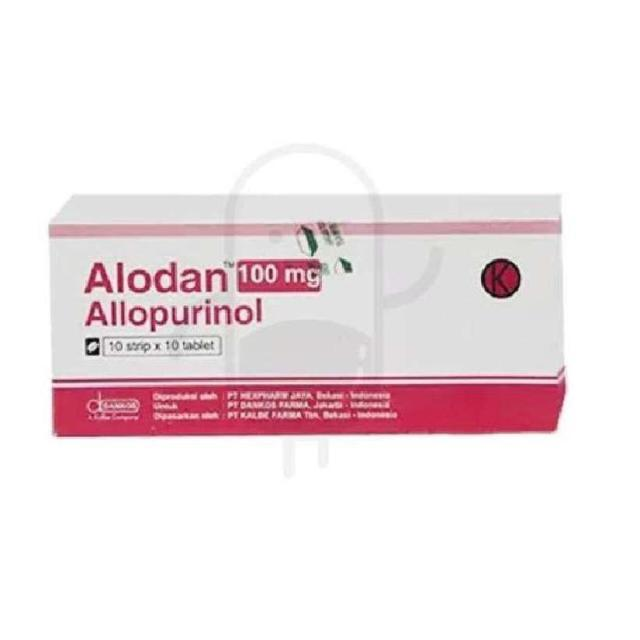drug-name: (80, 259, 238, 294)
